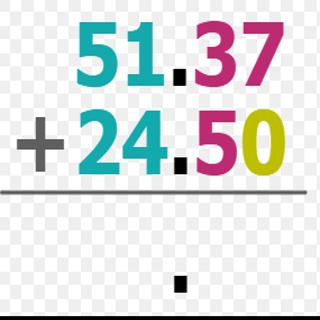.: (172, 154, 194, 180), (170, 269, 189, 298), (169, 63, 189, 90)
0: (238, 104, 291, 181)
1: (121, 13, 166, 89)
2: (75, 108, 121, 179)
3: (188, 17, 241, 90)
4: (121, 108, 169, 173)
5: (71, 16, 123, 90), (194, 106, 241, 178)
7: (240, 17, 288, 93)
